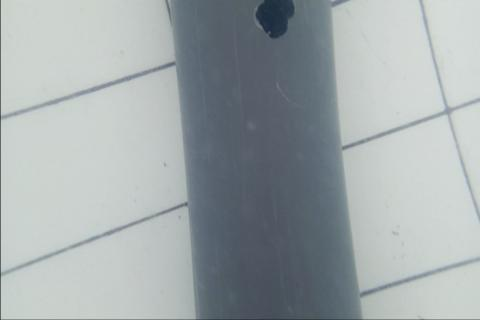kebocoran: (252, 0, 298, 41)
